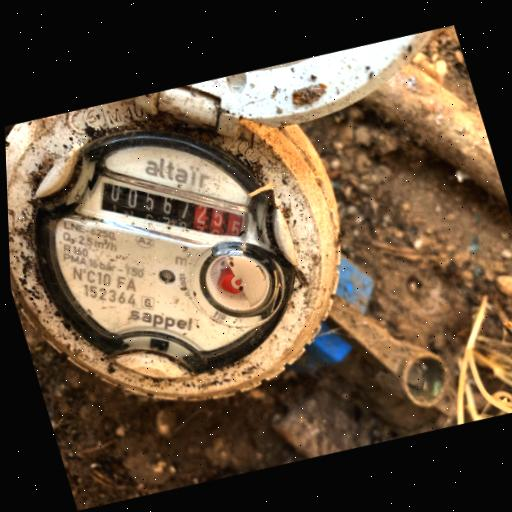0: (97, 179, 132, 217), (115, 183, 148, 220)
2: (185, 200, 217, 237)
5: (132, 187, 166, 225), (201, 204, 233, 239), (220, 208, 248, 241)
6: (149, 192, 184, 229)
7: (168, 196, 200, 232)
border_water_meter_number: (60, 120, 295, 306)
